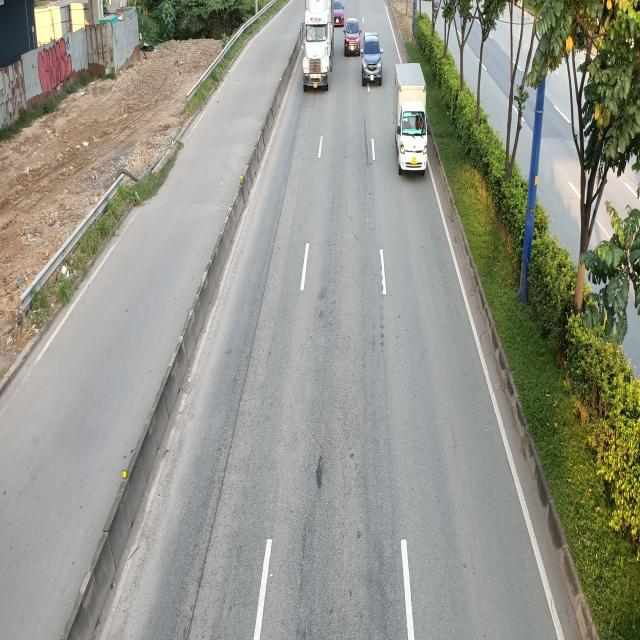car: (360, 34, 382, 88), (344, 18, 362, 57), (333, 0, 346, 24)
container: (301, 0, 337, 89)
truck: (394, 61, 430, 175)
